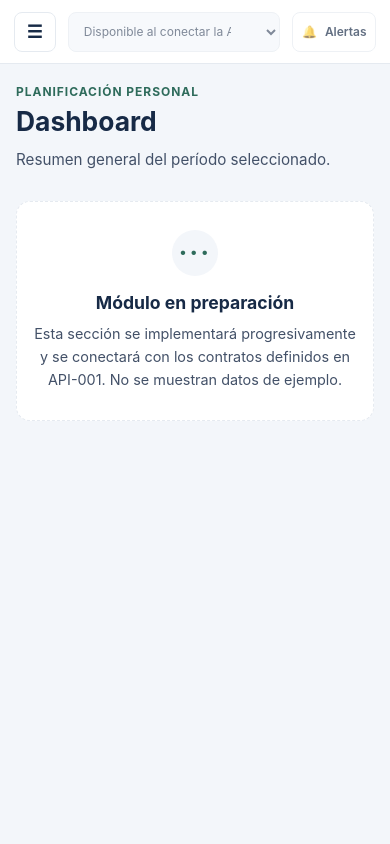
Test case: App › abre y cierra la navegación móvil
Later steps or results of the test are not shown.
Click the button named "Abrir menú de navegación" at (35, 32), box [14,12,56,52]
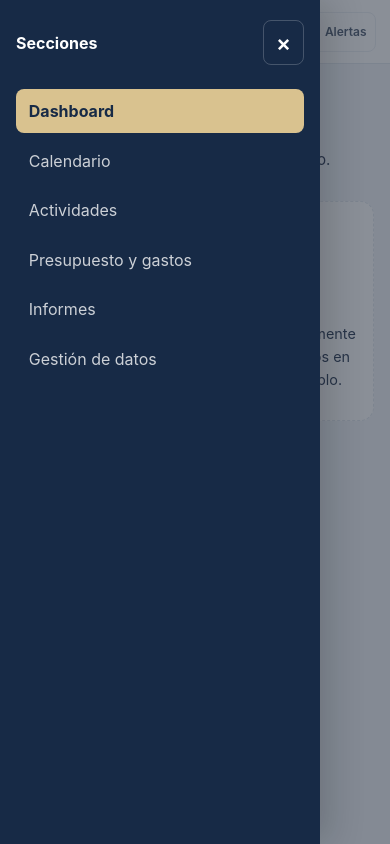
Result: the dialog named "Menú de navegación" is shown
